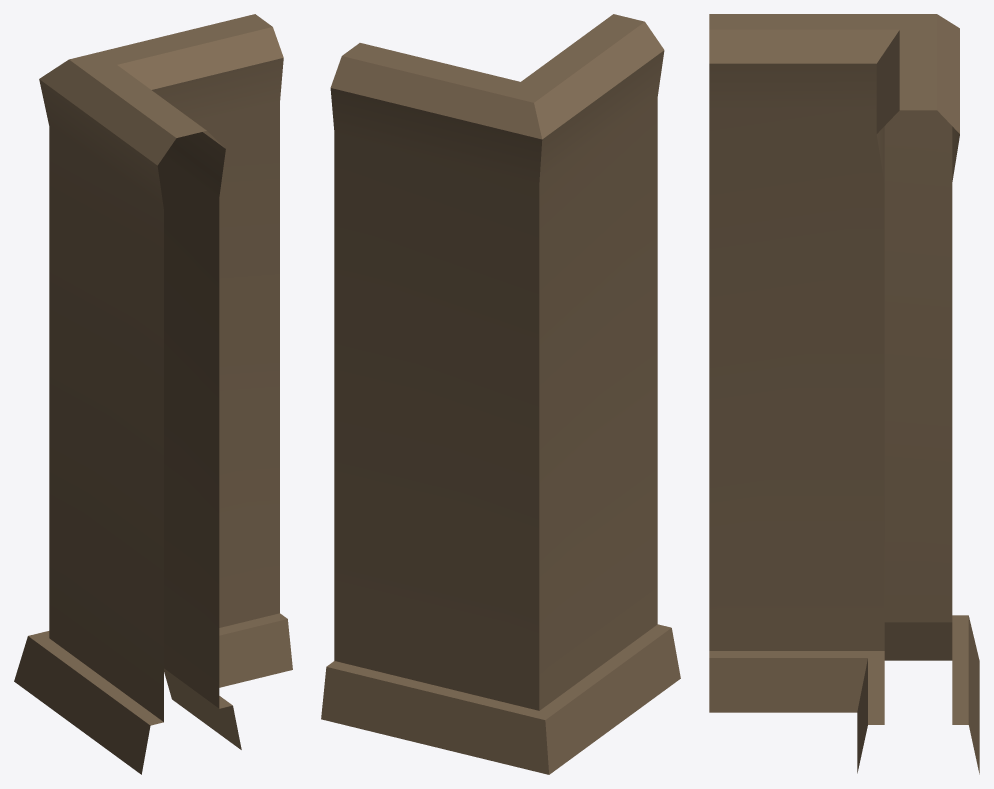
File: wall_segment_L.FBX
3 views of the same model, side by side, from view 1: azimuth 30°, elevation 25°; view 2: azimuth 150°, elevation 25°; view 3: azimuth 270°, elevation 25° (orthographic). The views are drawn at different scales.
Visible parts, largest first — view 1: wall_segment_L; view 2: wall_segment_L; view 3: wall_segment_L.
Part boxes in pixels (box(x1,y1,x2,y2)): wall_segment_L: box(14, 14, 292, 774); wall_segment_L: box(321, 14, 680, 774); wall_segment_L: box(709, 14, 979, 774).
Bounding box in the file's own units: 200 × 543 × 200.
